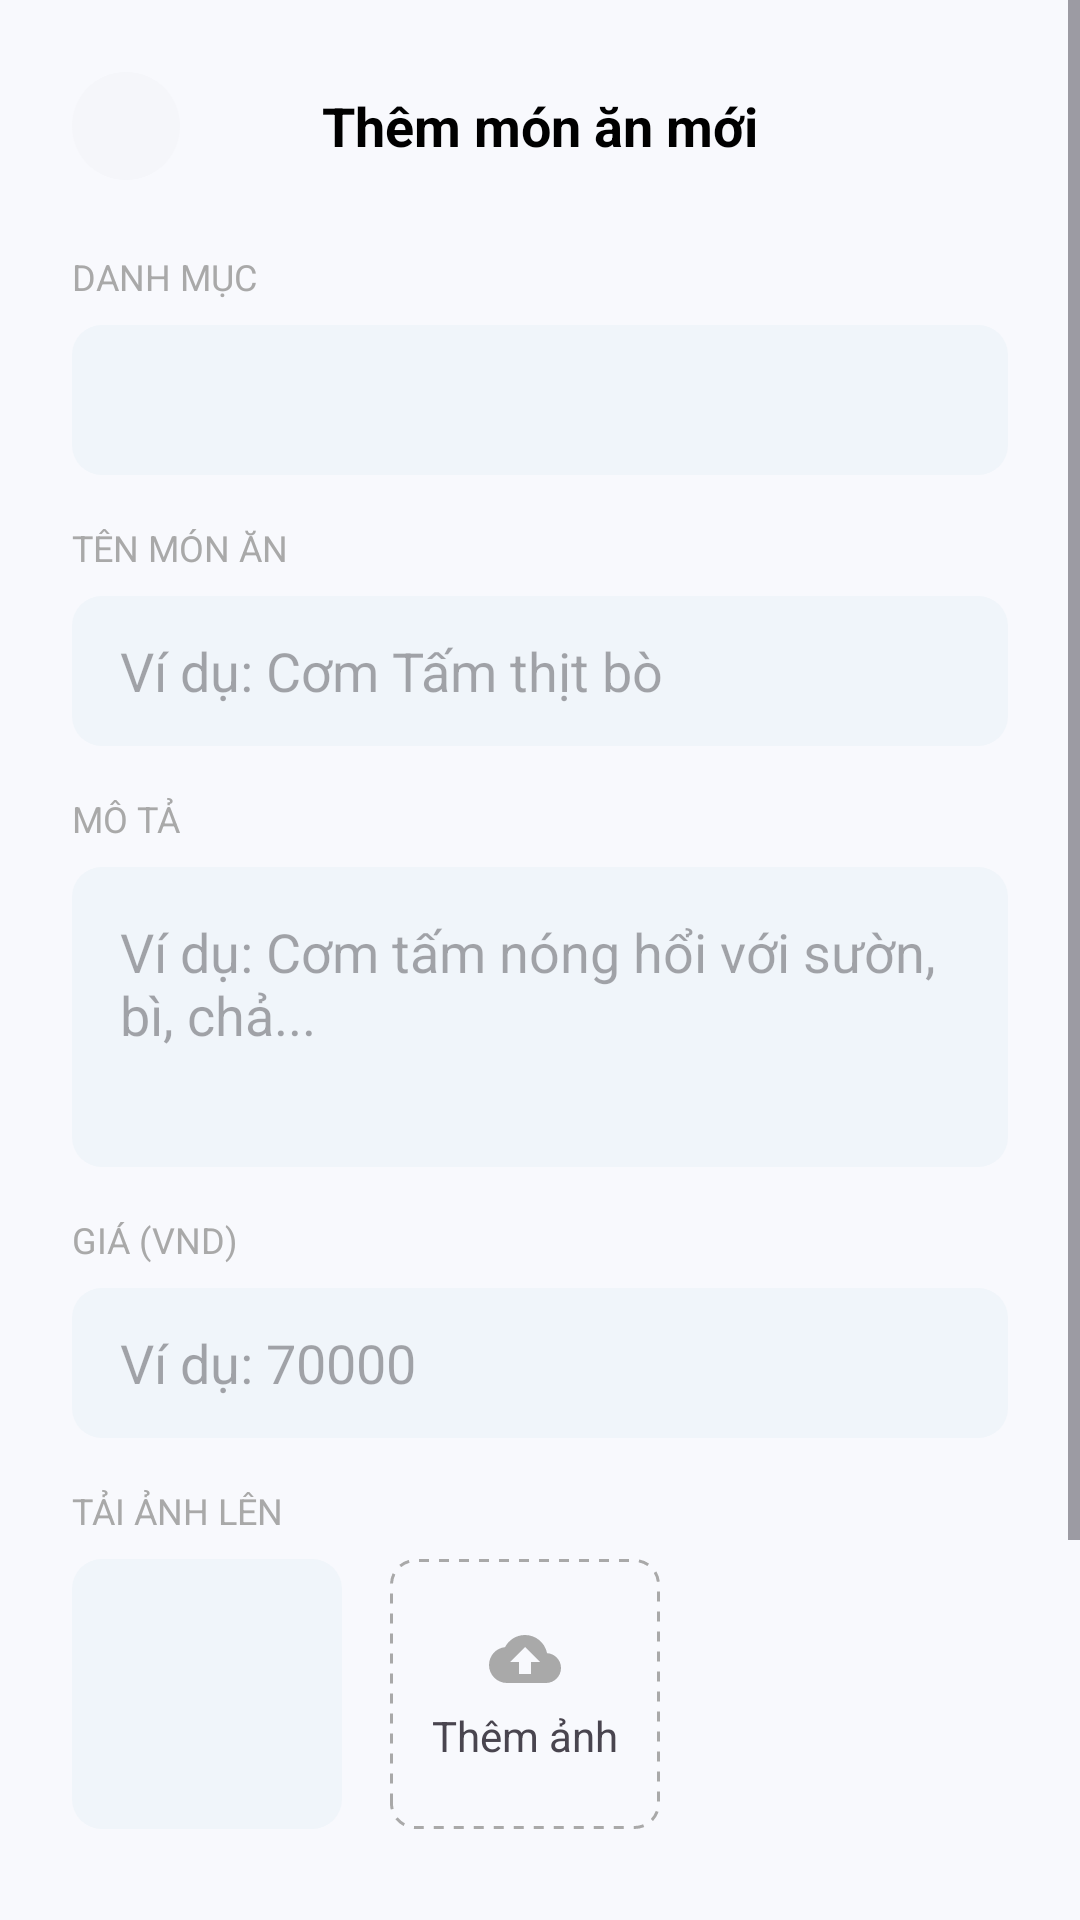

Icons on this 1080 x 1920 Android screen, each with its box as box(x1, y1, x2, y2):
upload cloud: box(489, 1635, 561, 1683)
